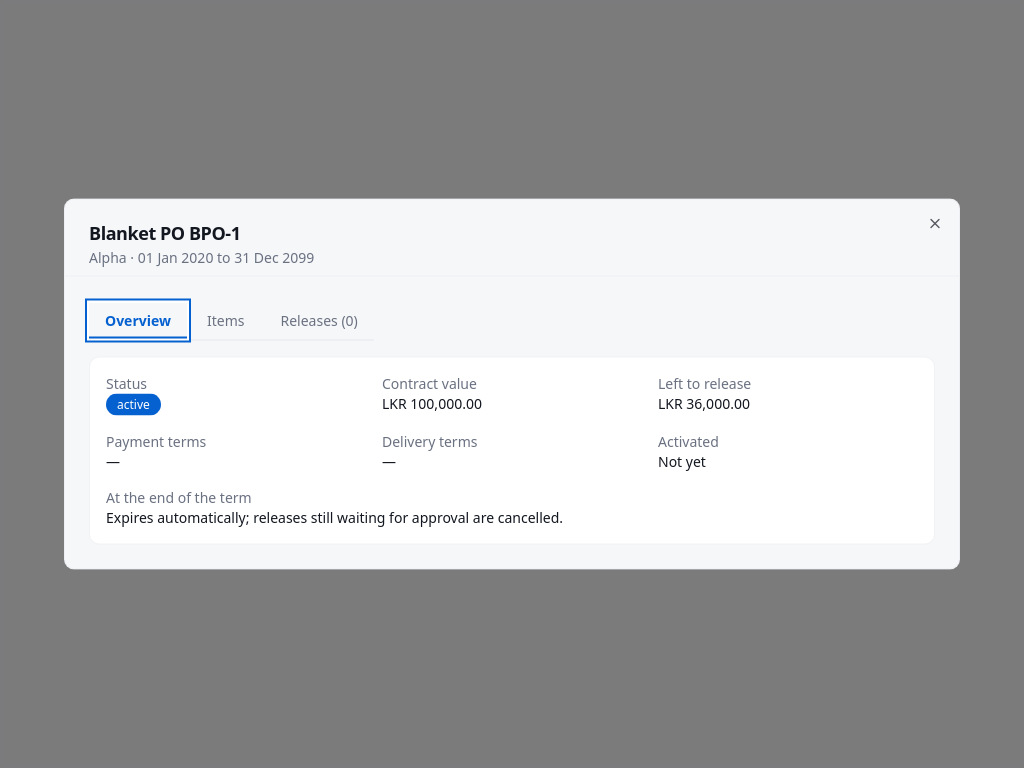
Test: BlanketPoDetailsDialog releases › checks the release against the contract before submitting
The image size is (1024, 768).
Later steps or results of the test are not shown.
Click the tab "Releases (0)" at coordinates (319, 320), box [264, 302, 374, 338]
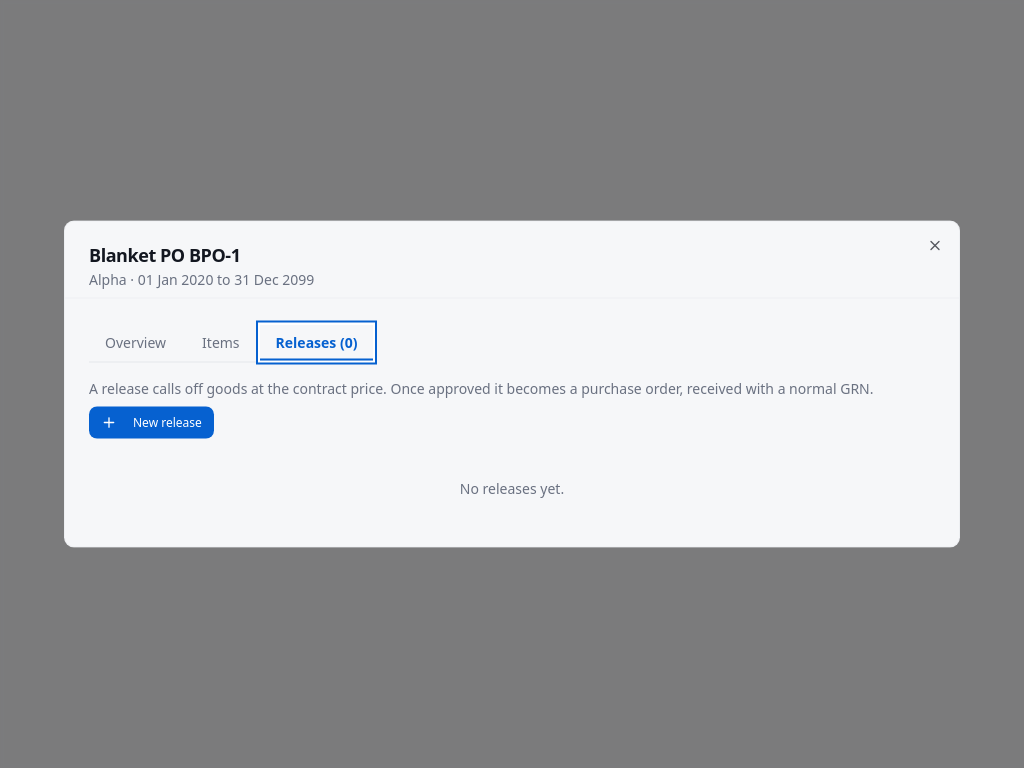
Click the button "New release" at coordinates (151, 422), box [89, 406, 214, 438]
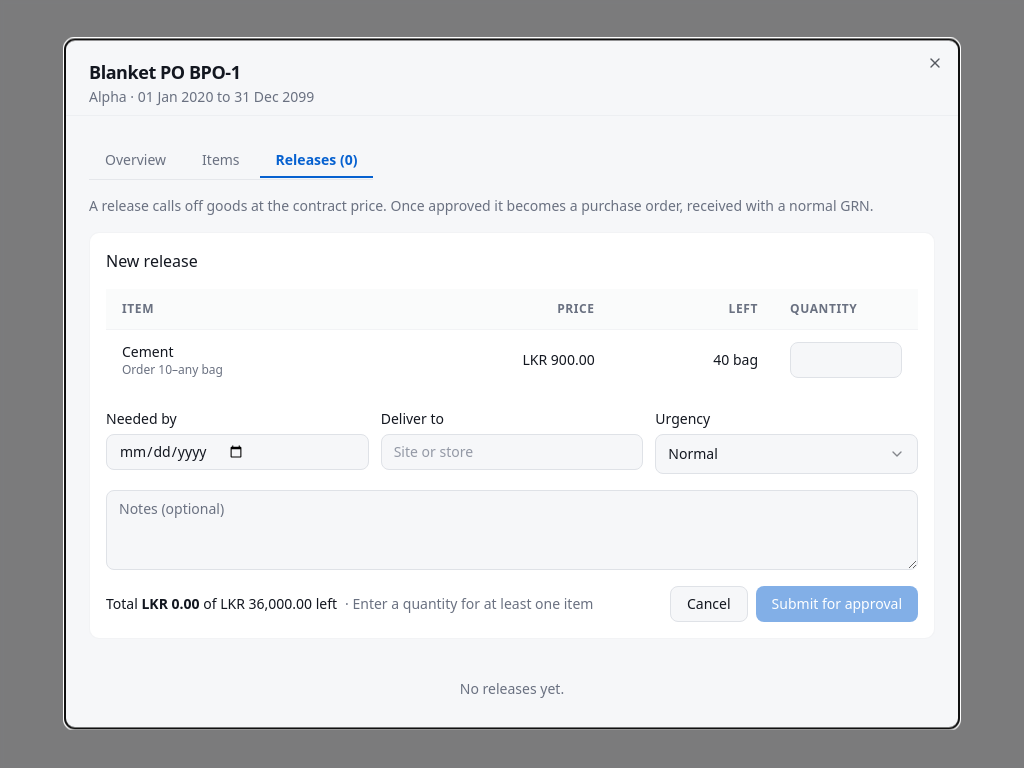
Type "50" into the field named "quantity of cement" at coordinates (846, 360), box [790, 342, 902, 378]
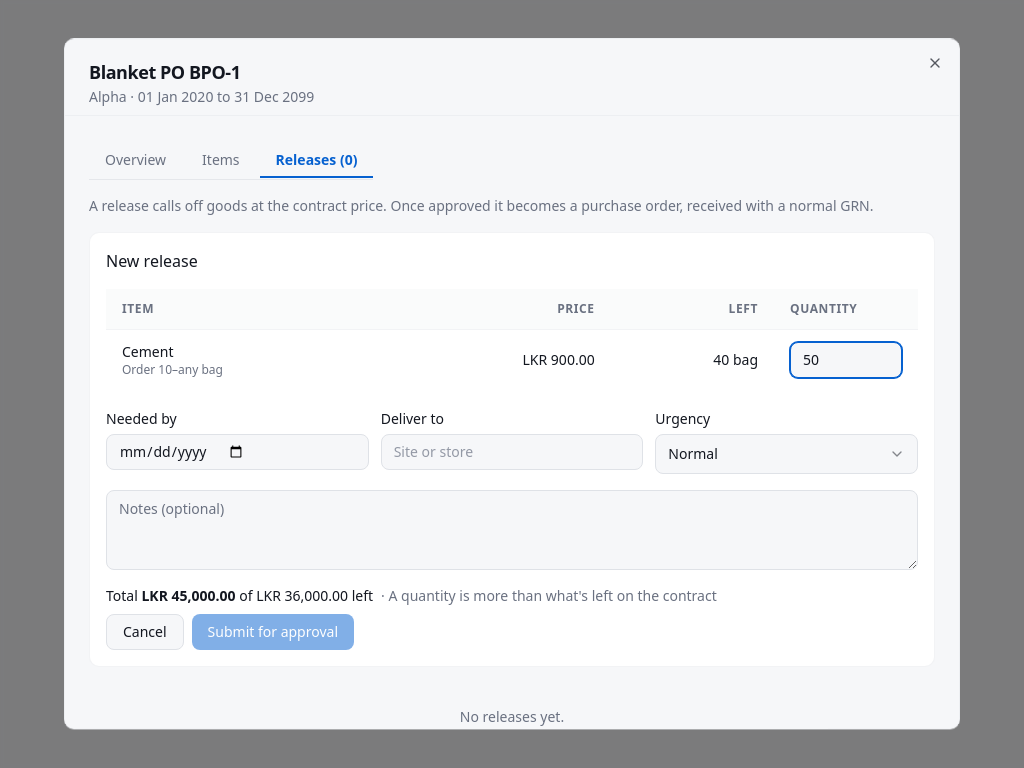
Check: the button "Submit for approval" is disabled, box [192, 614, 354, 650]
Check: the text "· A quantity is more than what's left on the contract" is shown, box [381, 586, 717, 605]
Replace the text in the field named "quantity of cement" with "5" at coordinates (846, 360), box [790, 342, 902, 378]
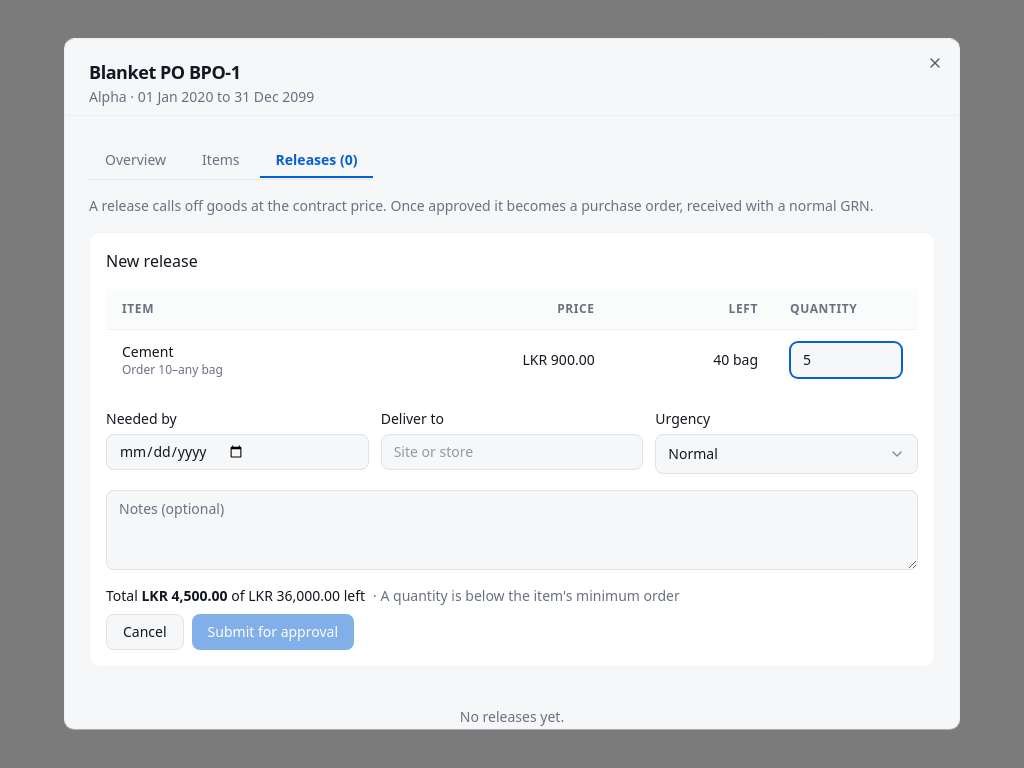
Check: the text "· A quantity is below the item's minimum order" is shown, box [373, 586, 680, 605]
Replace the text in the field named "quantity of cement" with "20" at coordinates (846, 360), box [790, 342, 902, 378]
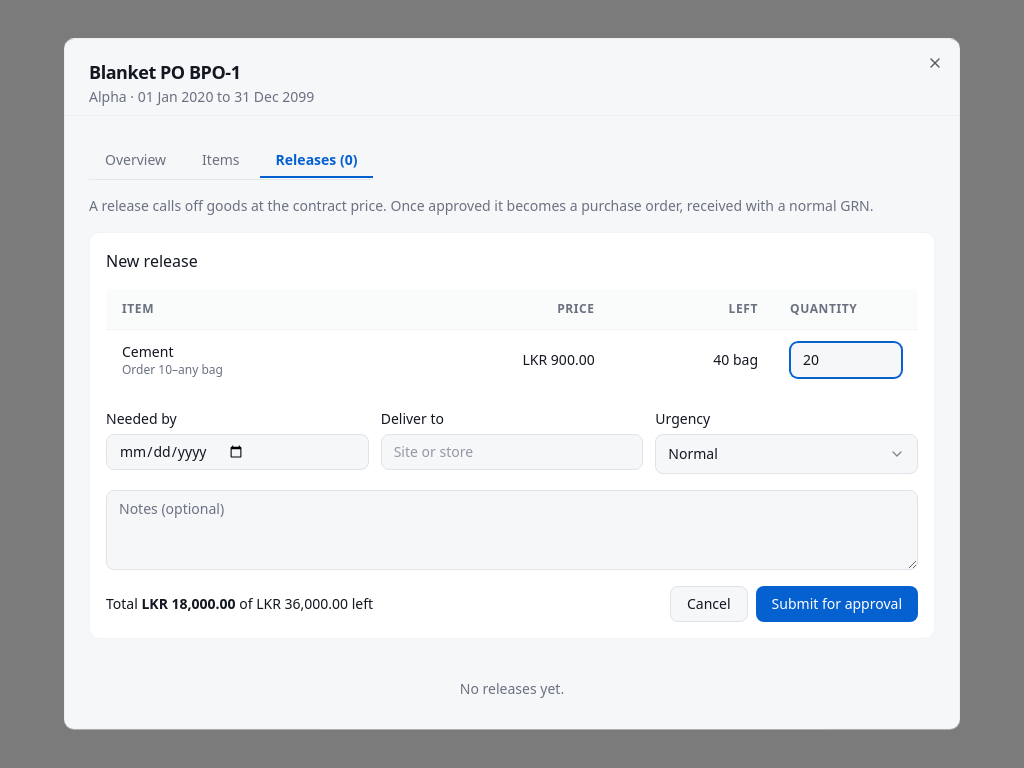
Check: the text "LKR 18,000.00" is shown, box [141, 594, 236, 613]
